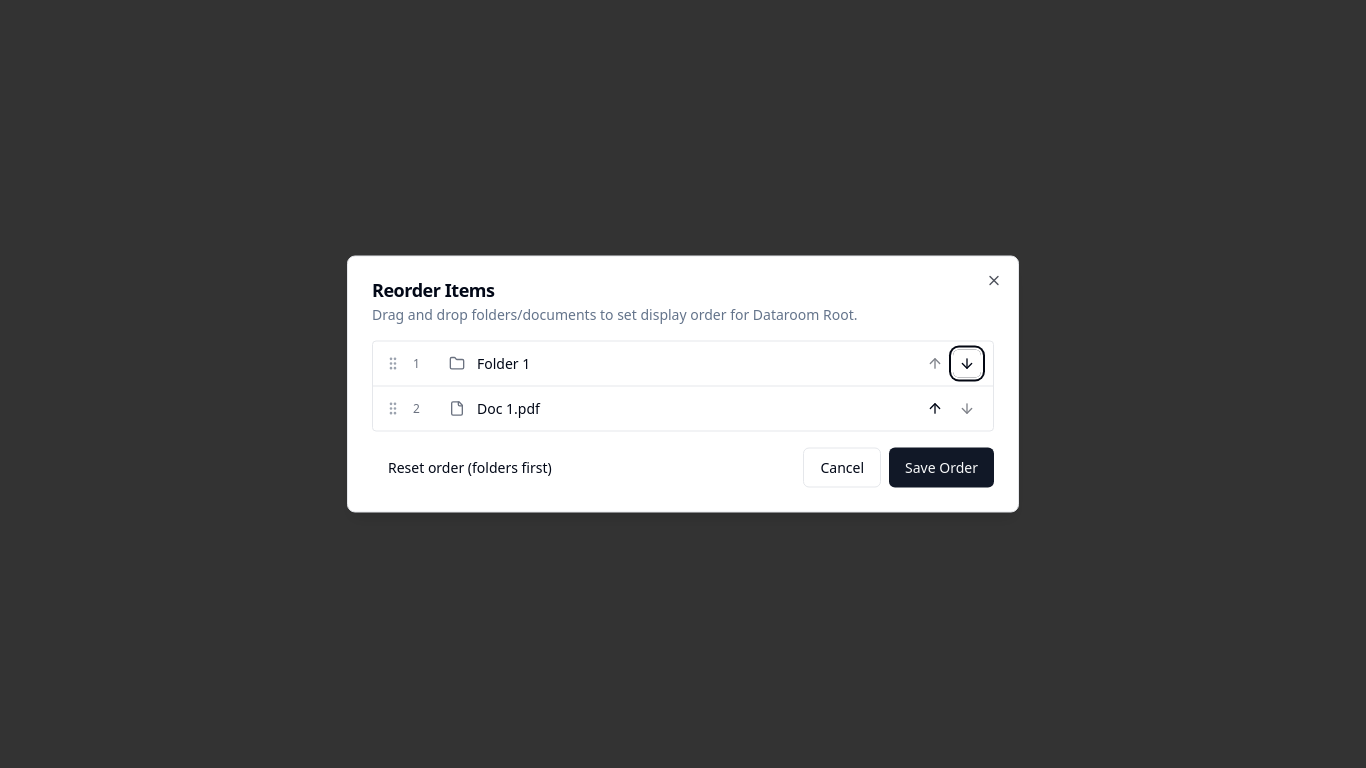
Test: DataroomReorderItemsDialog › disables buttons and prevents duplicate submissions while saving order
This screenshot has width=1366, height=768.
Note: First click
Click the button "Save Order".
click(942, 468)  # box top-left (889, 448), bottom-right (994, 488)
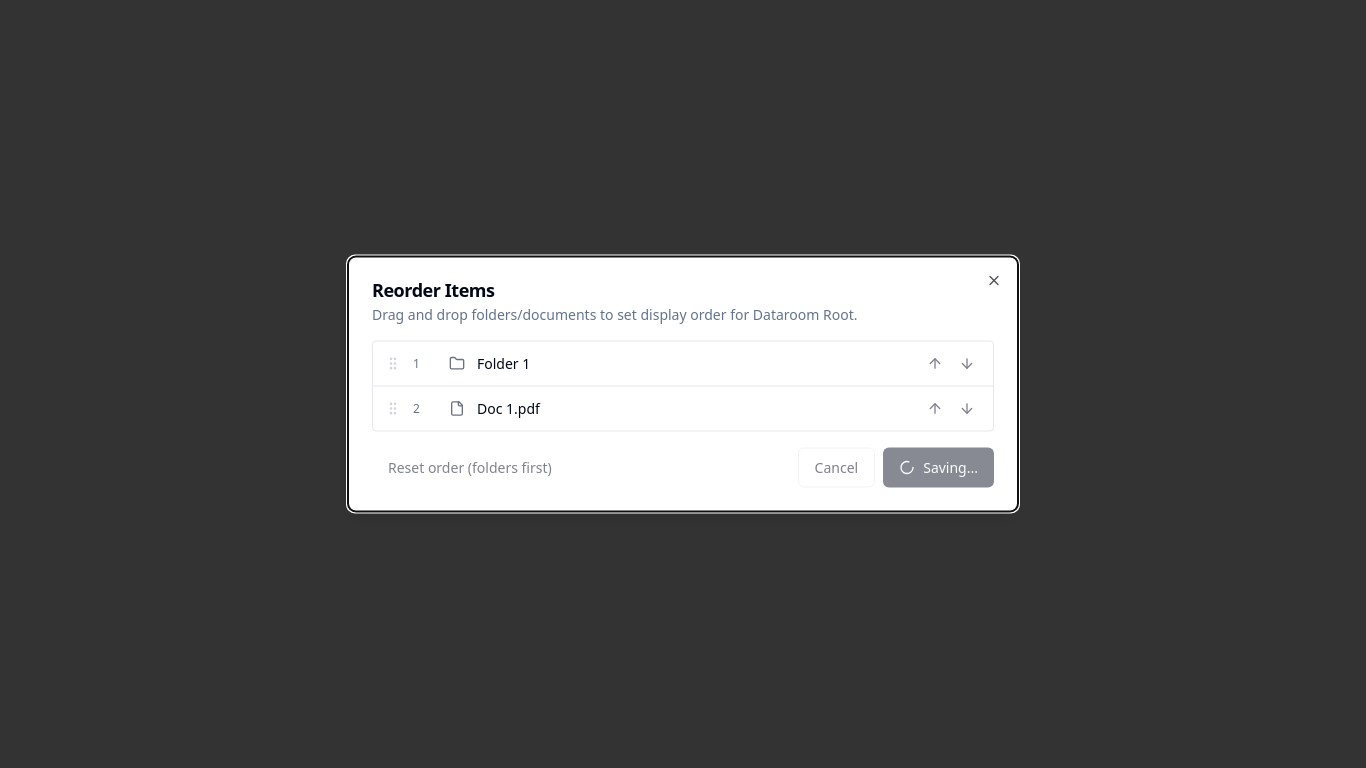
Result: the button "Saving..." is shown
Result: the button "Saving..." is disabled
Result: the button "Cancel" is disabled at top-left (798, 448), bottom-right (875, 488)
Note: Second click while in flight
Click the button "Saving...".
click(939, 468)  # box top-left (883, 448), bottom-right (994, 488)
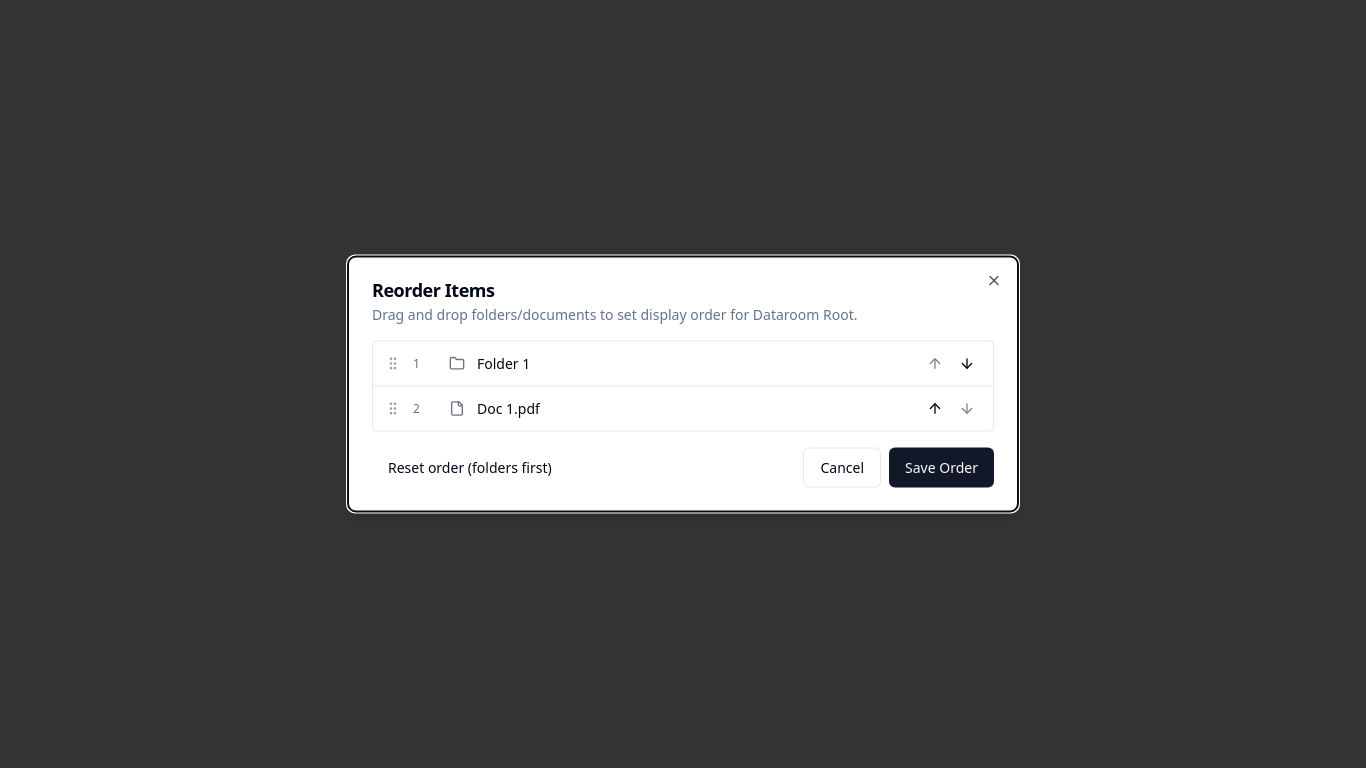
Result: the button "Saving..." is gone
